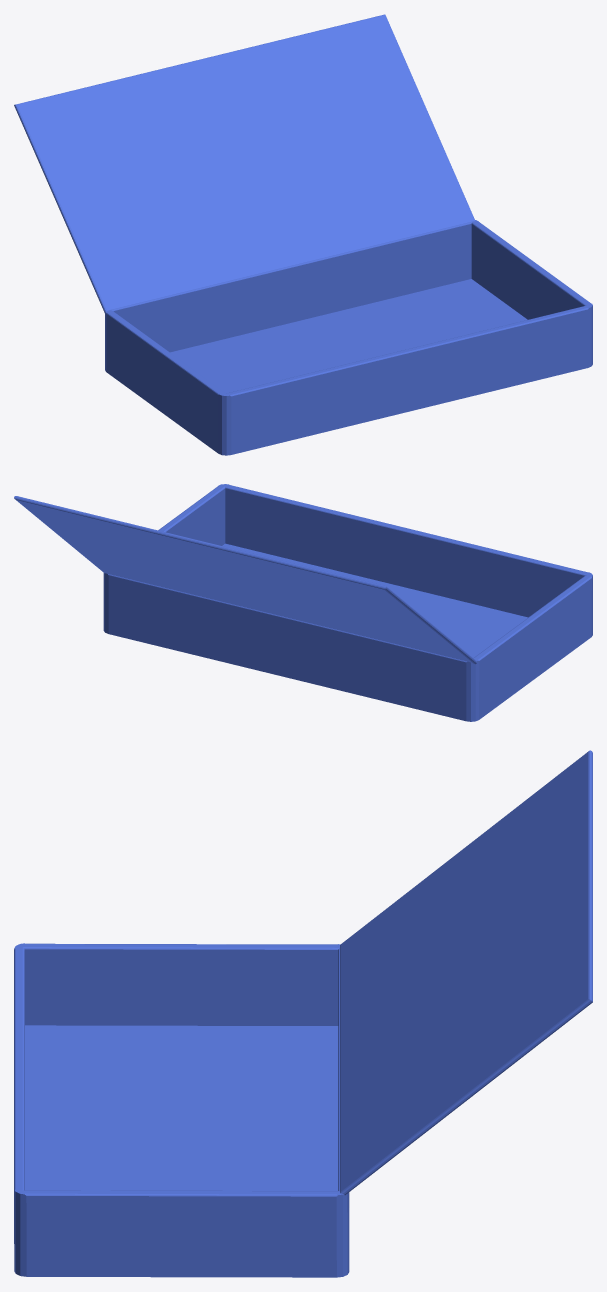
The picture shows the model from 3 angles, top to bottom: view 1: azimuth 30°, elevation 25°; view 2: azimuth 150°, elevation 25°; view 3: azimuth 270°, elevation 25°; orthographic projection. The views are drawn at different scales.
Parts seen in each view (by area): view 1: TopLuggageXL.001, TopLuggageXL; view 2: TopLuggageXL, TopLuggageXL.001; view 3: TopLuggageXL, TopLuggageXL.001.
Boxes of the visible parts, left/top/right/bottom form: TopLuggageXL.001: left=14, top=14, right=475, bottom=312; TopLuggageXL: left=105, top=220, right=592, bottom=455; TopLuggageXL: left=103, top=484, right=592, bottom=721; TopLuggageXL.001: left=14, top=496, right=477, bottom=664; TopLuggageXL: left=14, top=943, right=349, bottom=1277; TopLuggageXL.001: left=340, top=750, right=592, bottom=1195.
Size of the model in its own units: 5.28 by 2.7 by 5.13.
